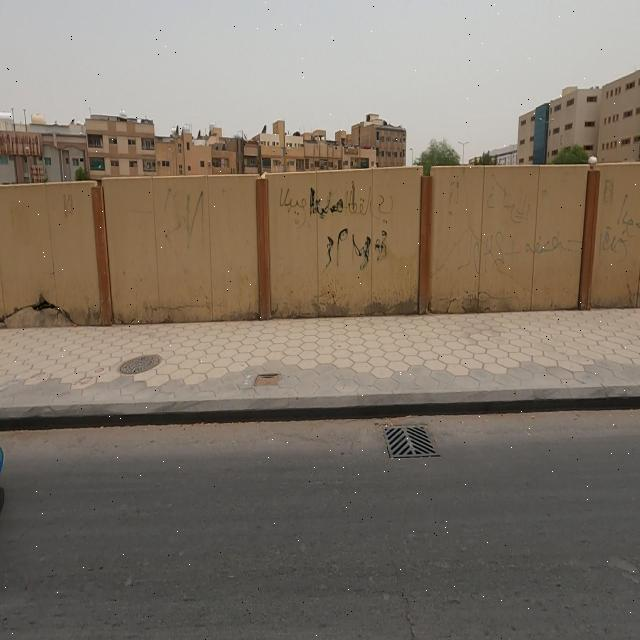Graffiti: (278, 184, 392, 228), (163, 186, 203, 270), (597, 192, 640, 260), (324, 228, 388, 270), (485, 174, 534, 224), (524, 234, 582, 262), (470, 228, 502, 274), (62, 193, 74, 217)
